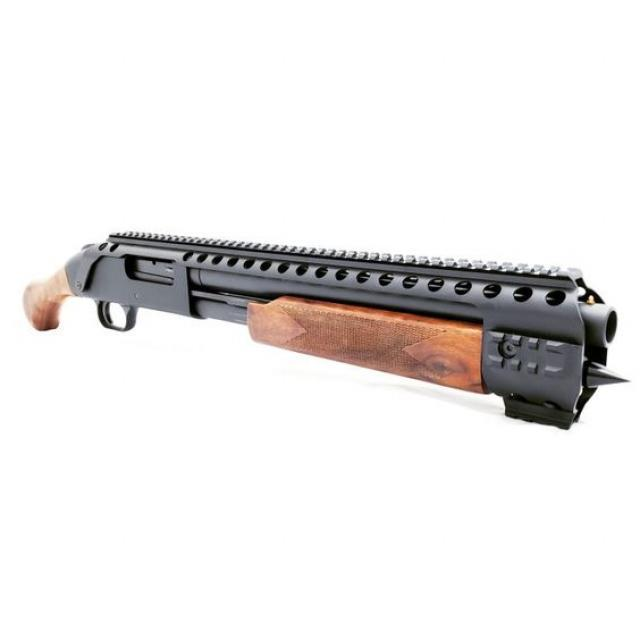shotgun: (24, 224, 628, 428)
